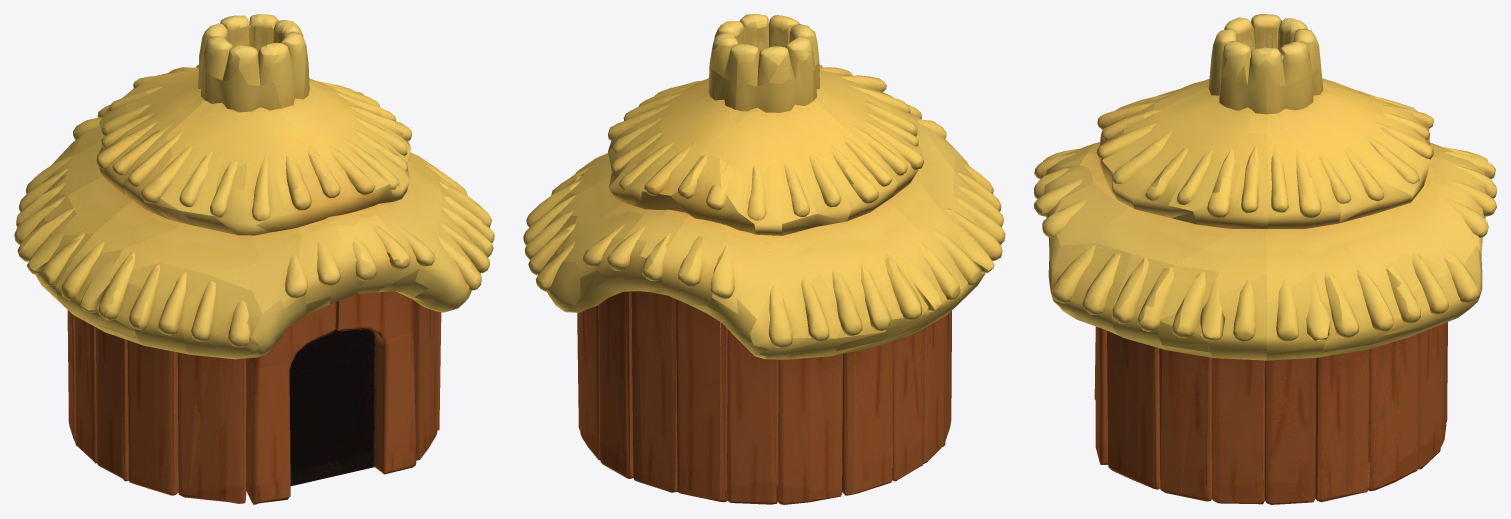
File: la_cabana.glb
The picture shows the model from 3 angles, left to right: view 1: azimuth 30°, elevation 25°; view 2: azimuth 150°, elevation 25°; view 3: azimuth 270°, elevation 25°; orthographic projection.
Size of the model in its own units: 1 by 0.9473 by 1.
Materials: 1 (1 with a texture image).
